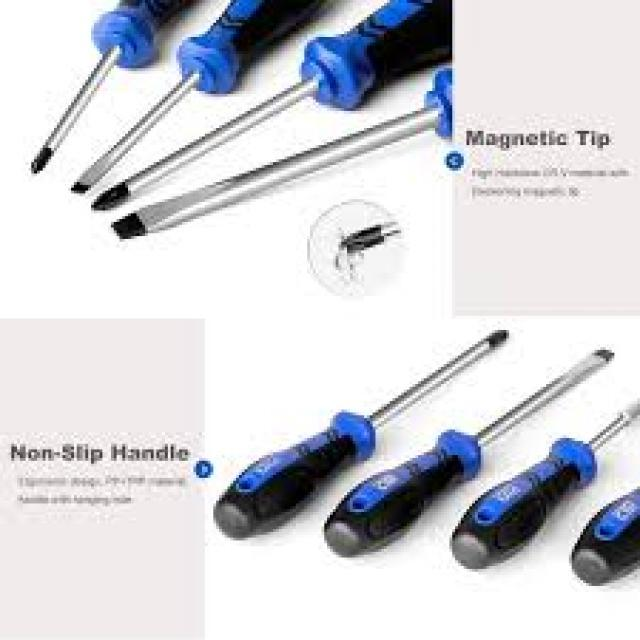screwdriver: (85, 0, 455, 225), (206, 326, 514, 542), (316, 342, 620, 558), (67, 0, 326, 210), (450, 387, 640, 577), (27, 0, 195, 176)
